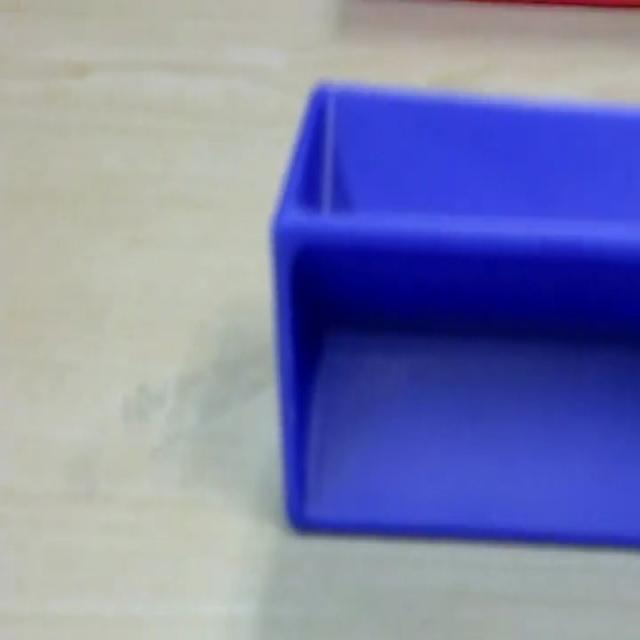blue_block: (270, 74, 638, 546)
